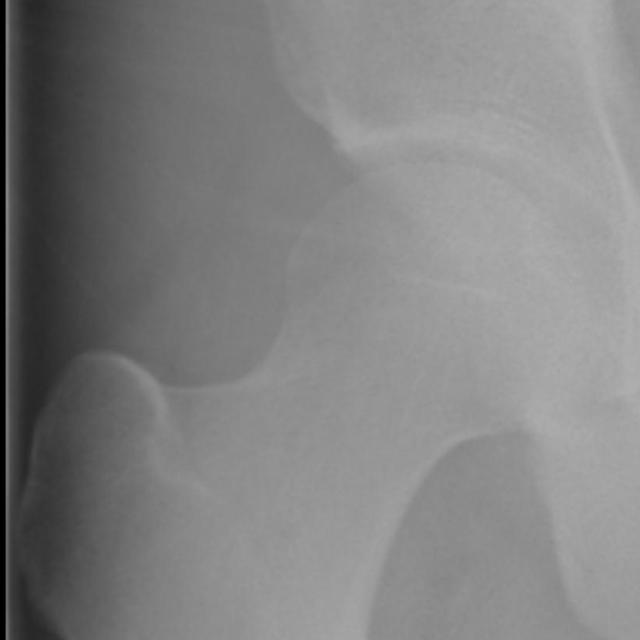Fitted_femural_head: (292, 158, 432, 292)
